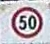limite 50: (9, 6, 43, 37)
